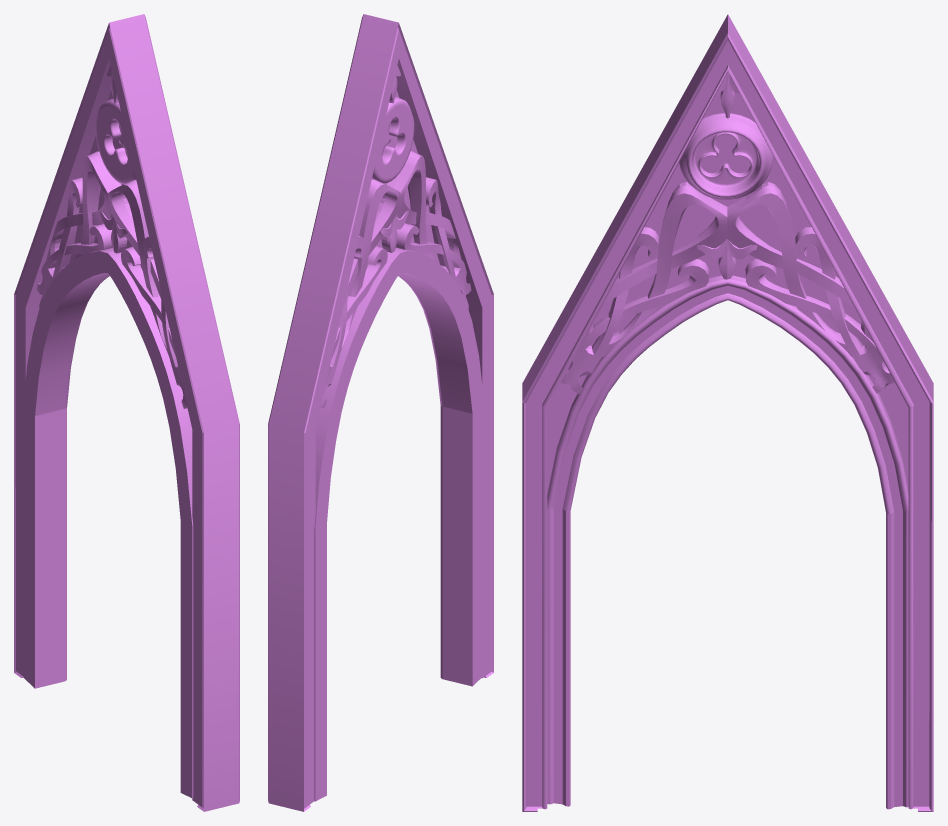
The model's file is SM_CastleDeco_A_001.FBX.
The picture shows the model from 3 angles, left to right: view 1: azimuth 30°, elevation 25°; view 2: azimuth 150°, elevation 25°; view 3: azimuth 270°, elevation 25°; orthographic projection. The views are drawn at different scales.
Parts seen in each view (by area): view 1: SM_CastleDeco_A_001; view 2: SM_CastleDeco_A_001; view 3: SM_CastleDeco_A_001.
Boxes of the visible parts, <box> form: SM_CastleDeco_A_001: <box>14,14,239,811</box>; SM_CastleDeco_A_001: <box>268,14,493,811</box>; SM_CastleDeco_A_001: <box>522,14,933,811</box>.
Size of the model in its own units: 76.67 by 1303 by 623.
